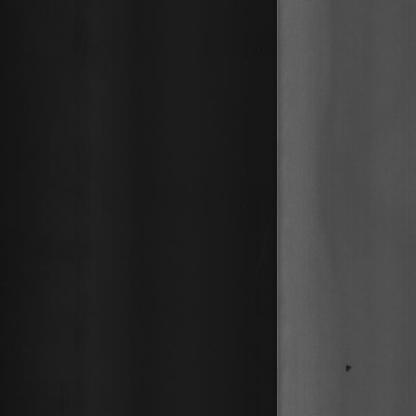inclusion: (337, 356, 357, 380)
